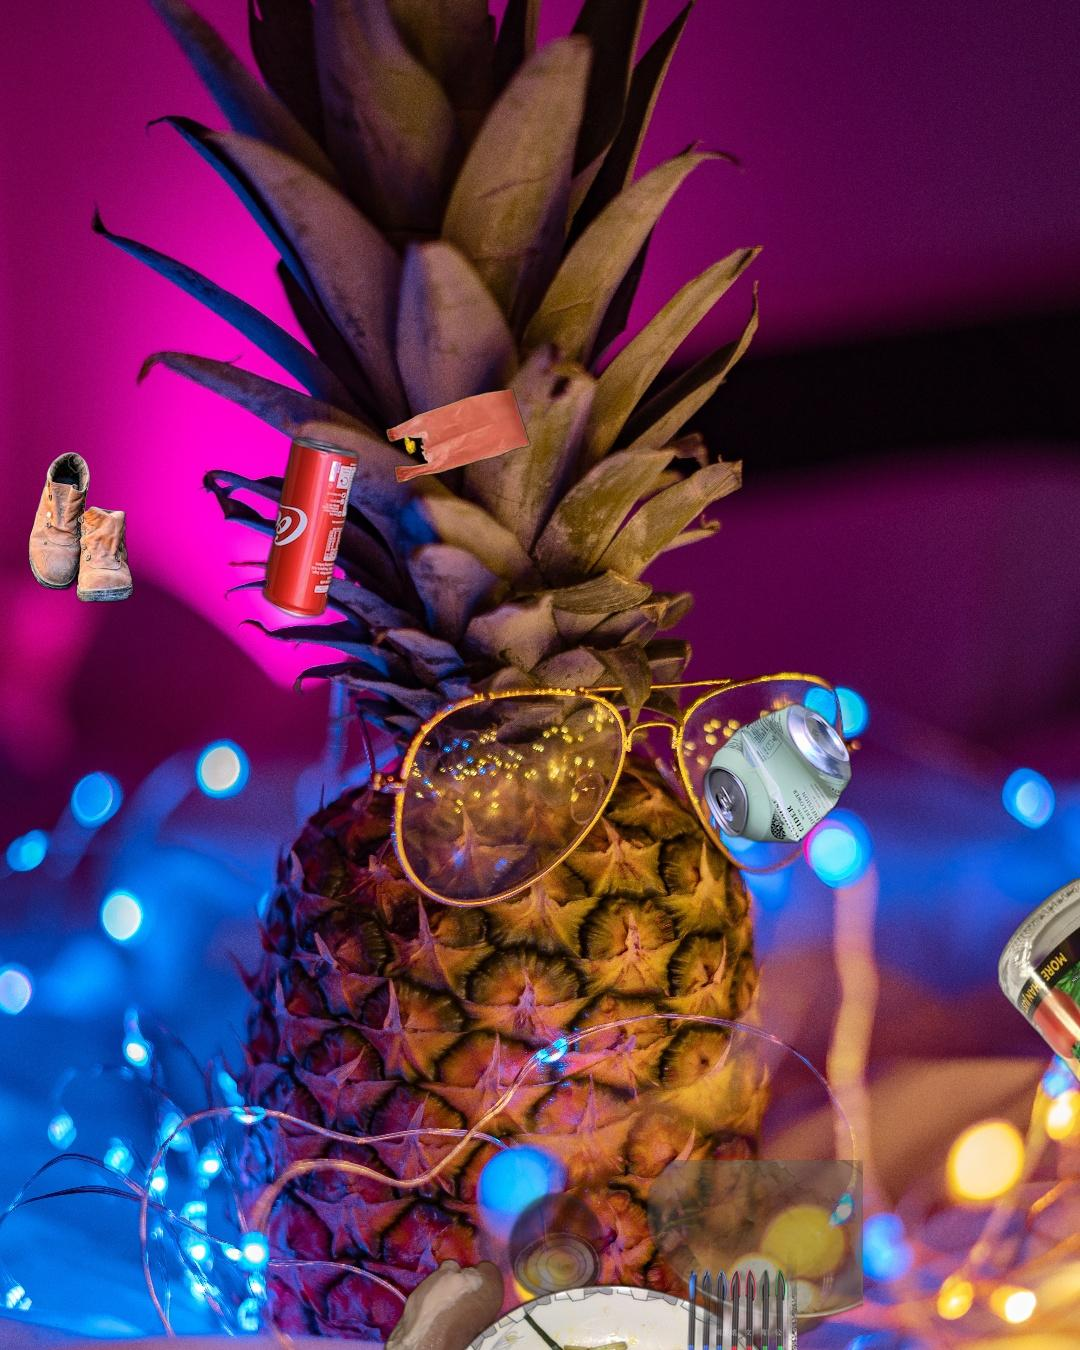biological: (372, 1160, 863, 1350)
glass: (993, 878, 1080, 1262)
metal-cans: (824, 71, 1080, 553), (698, 698, 856, 847), (257, 431, 363, 623)
penholder: (647, 1245, 797, 1350)
plastic-bag: (384, 385, 532, 484)
shoes: (26, 449, 136, 605)
